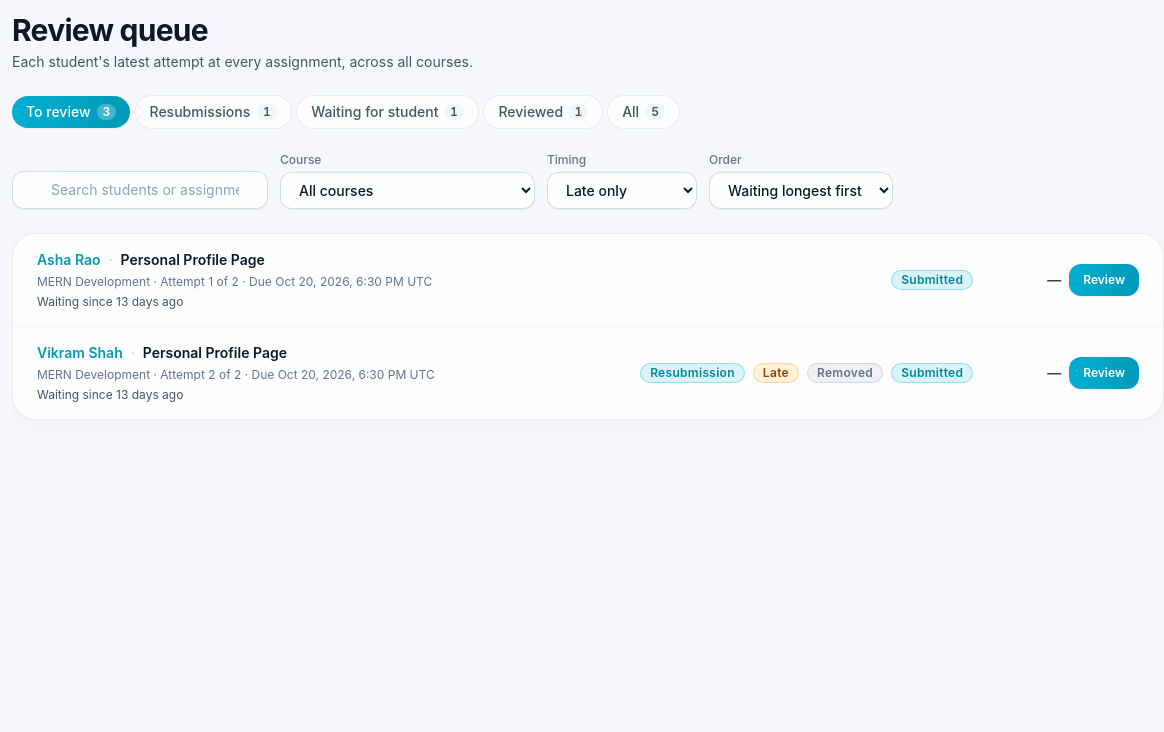
Scenario: ReviewQueuePage › opens the existing review page, which links back to the queue and refreshes it
The width and height of the screenshot is (1164, 732).
Click the link with aria-label "Review Asha Rao's submission" at point(1104, 280), box left=1069, top=264, right=1139, bottom=296
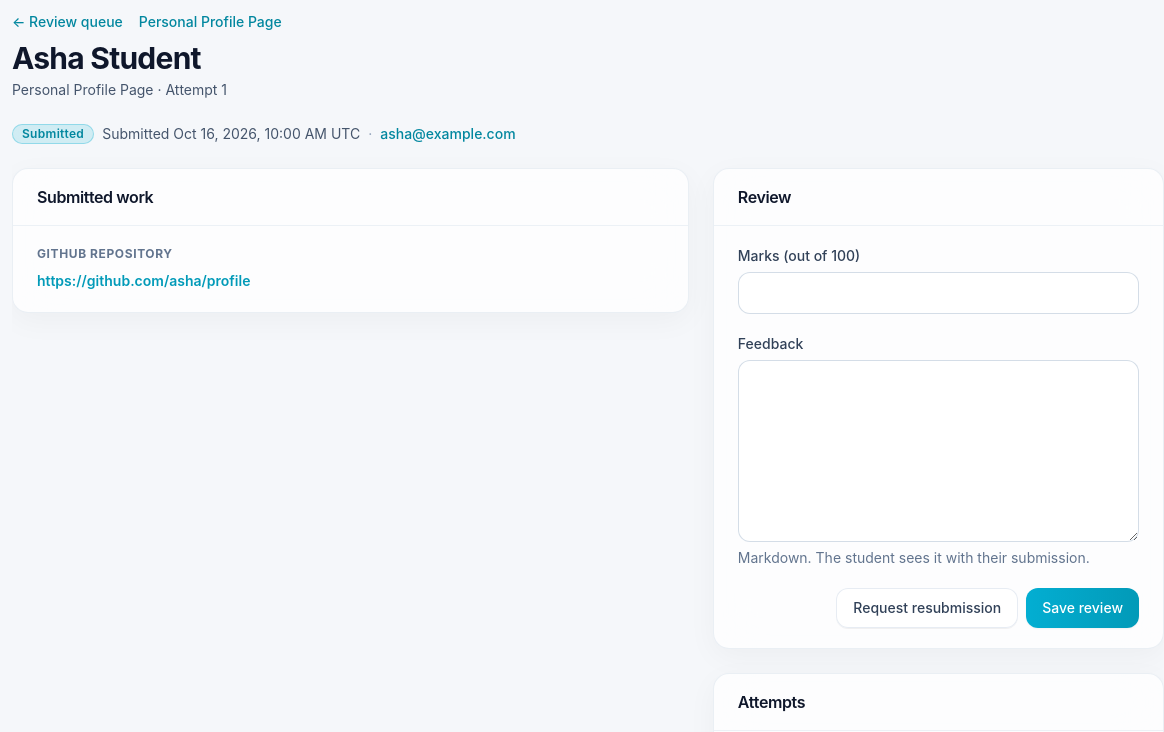
Type "90" into the number field labelled "Marks (out of 100)" at point(938, 293), box left=738, top=272, right=1139, bottom=314
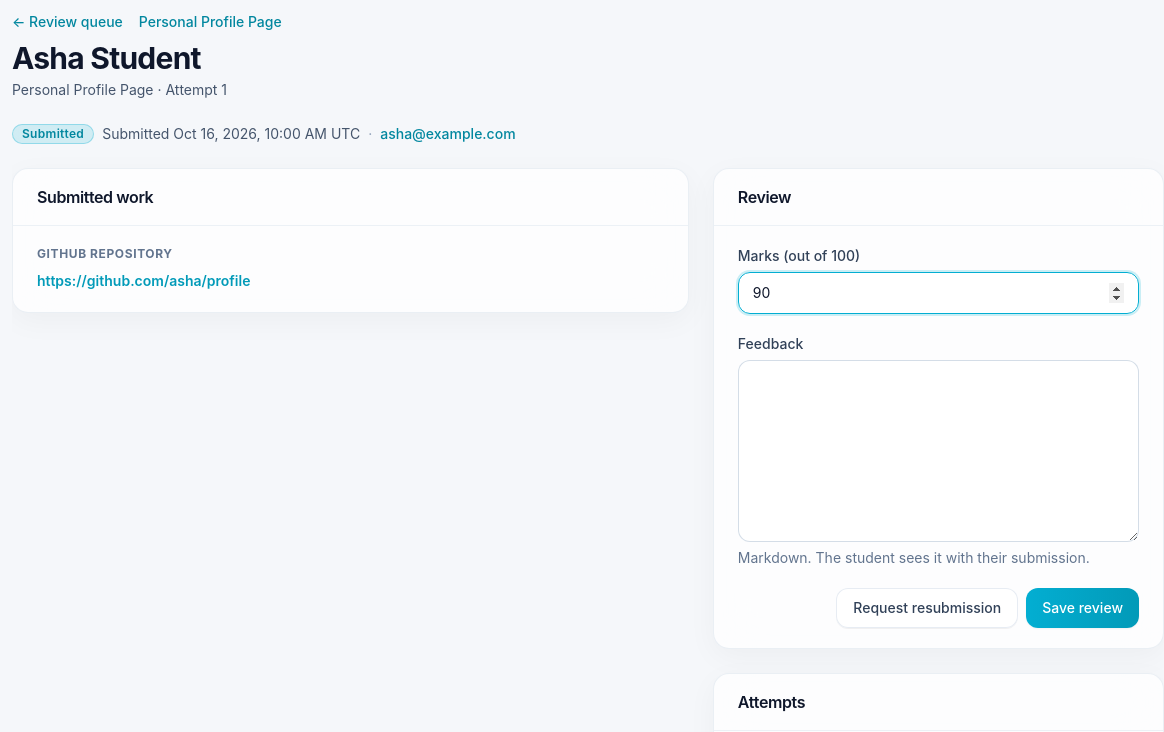
Click the button "Save review" at point(1083, 608), box left=1026, top=588, right=1139, bottom=628
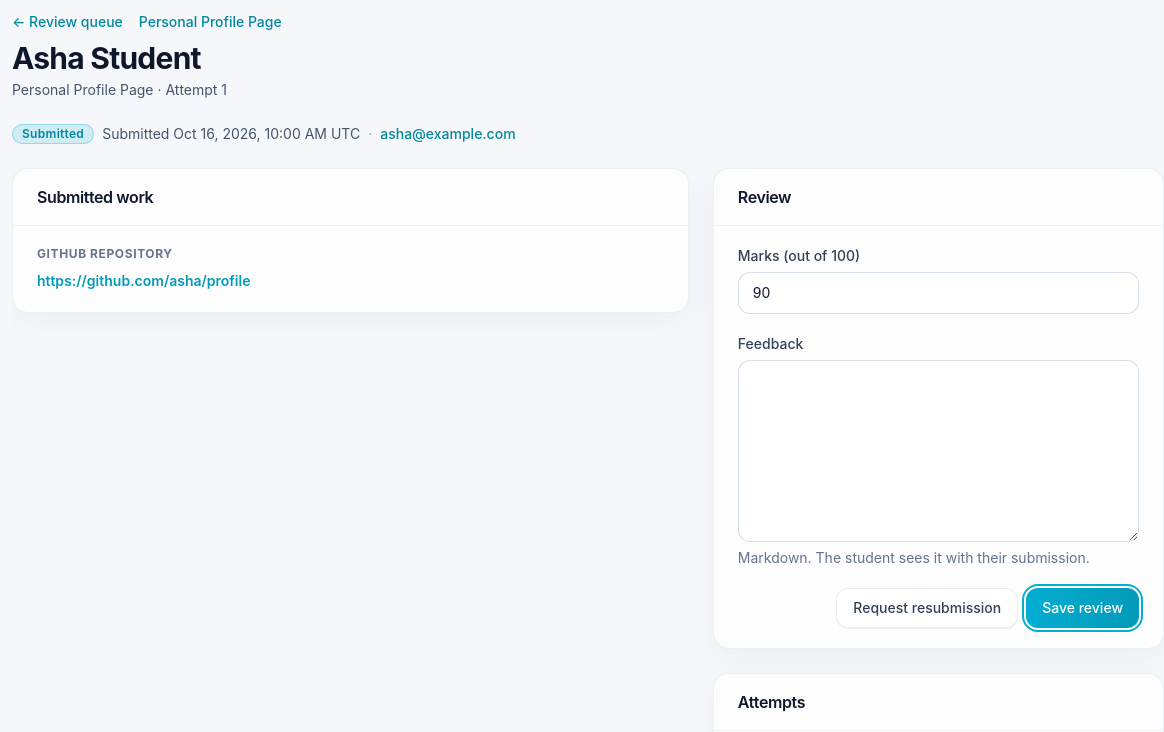
Click the link "← Review queue" at point(67, 22), box left=12, top=12, right=123, bottom=32
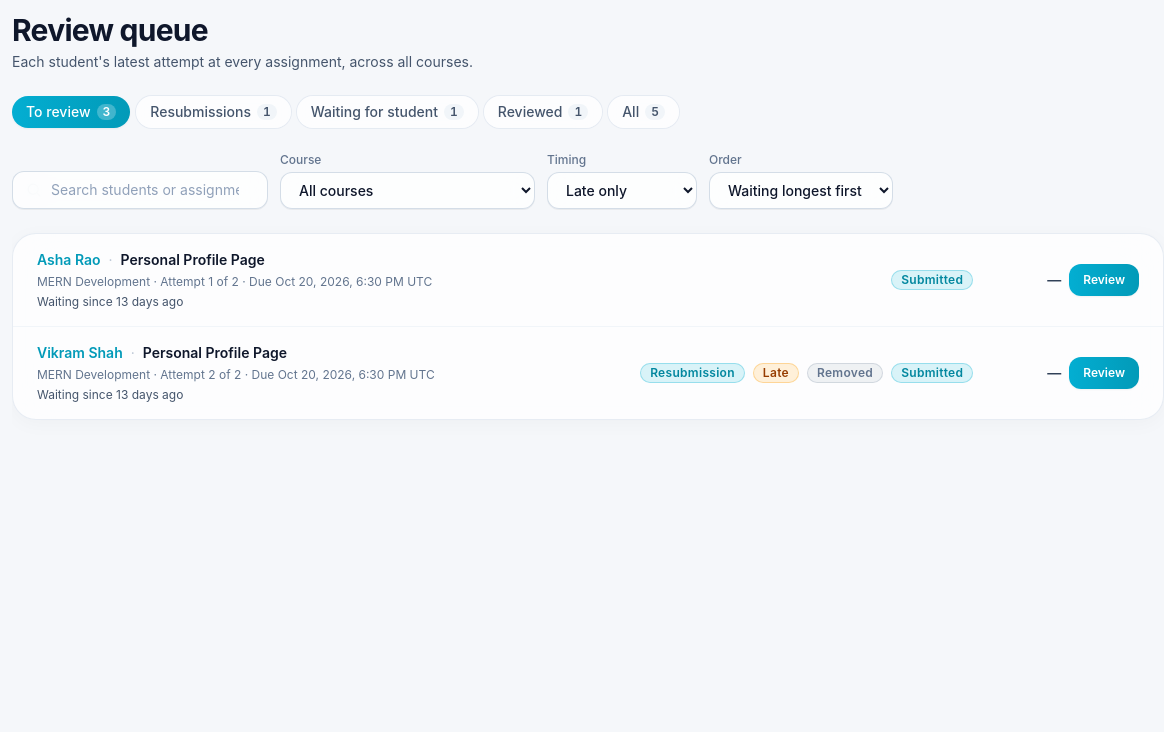
Expected: the list named "Submissions" is shown, left=12, top=233, right=1163, bottom=420
